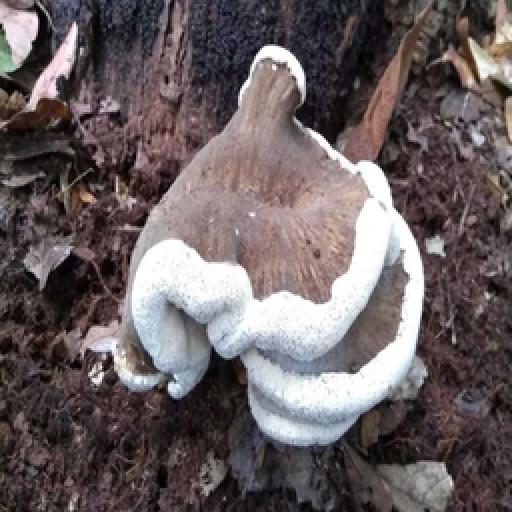mushrooms: (116, 44, 426, 448)
